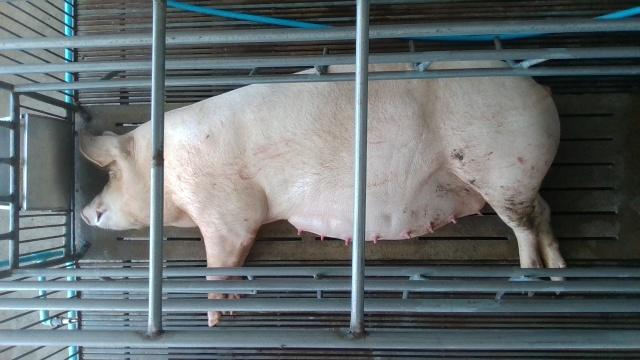sow-sleep-lactate: (78, 61, 567, 328)
